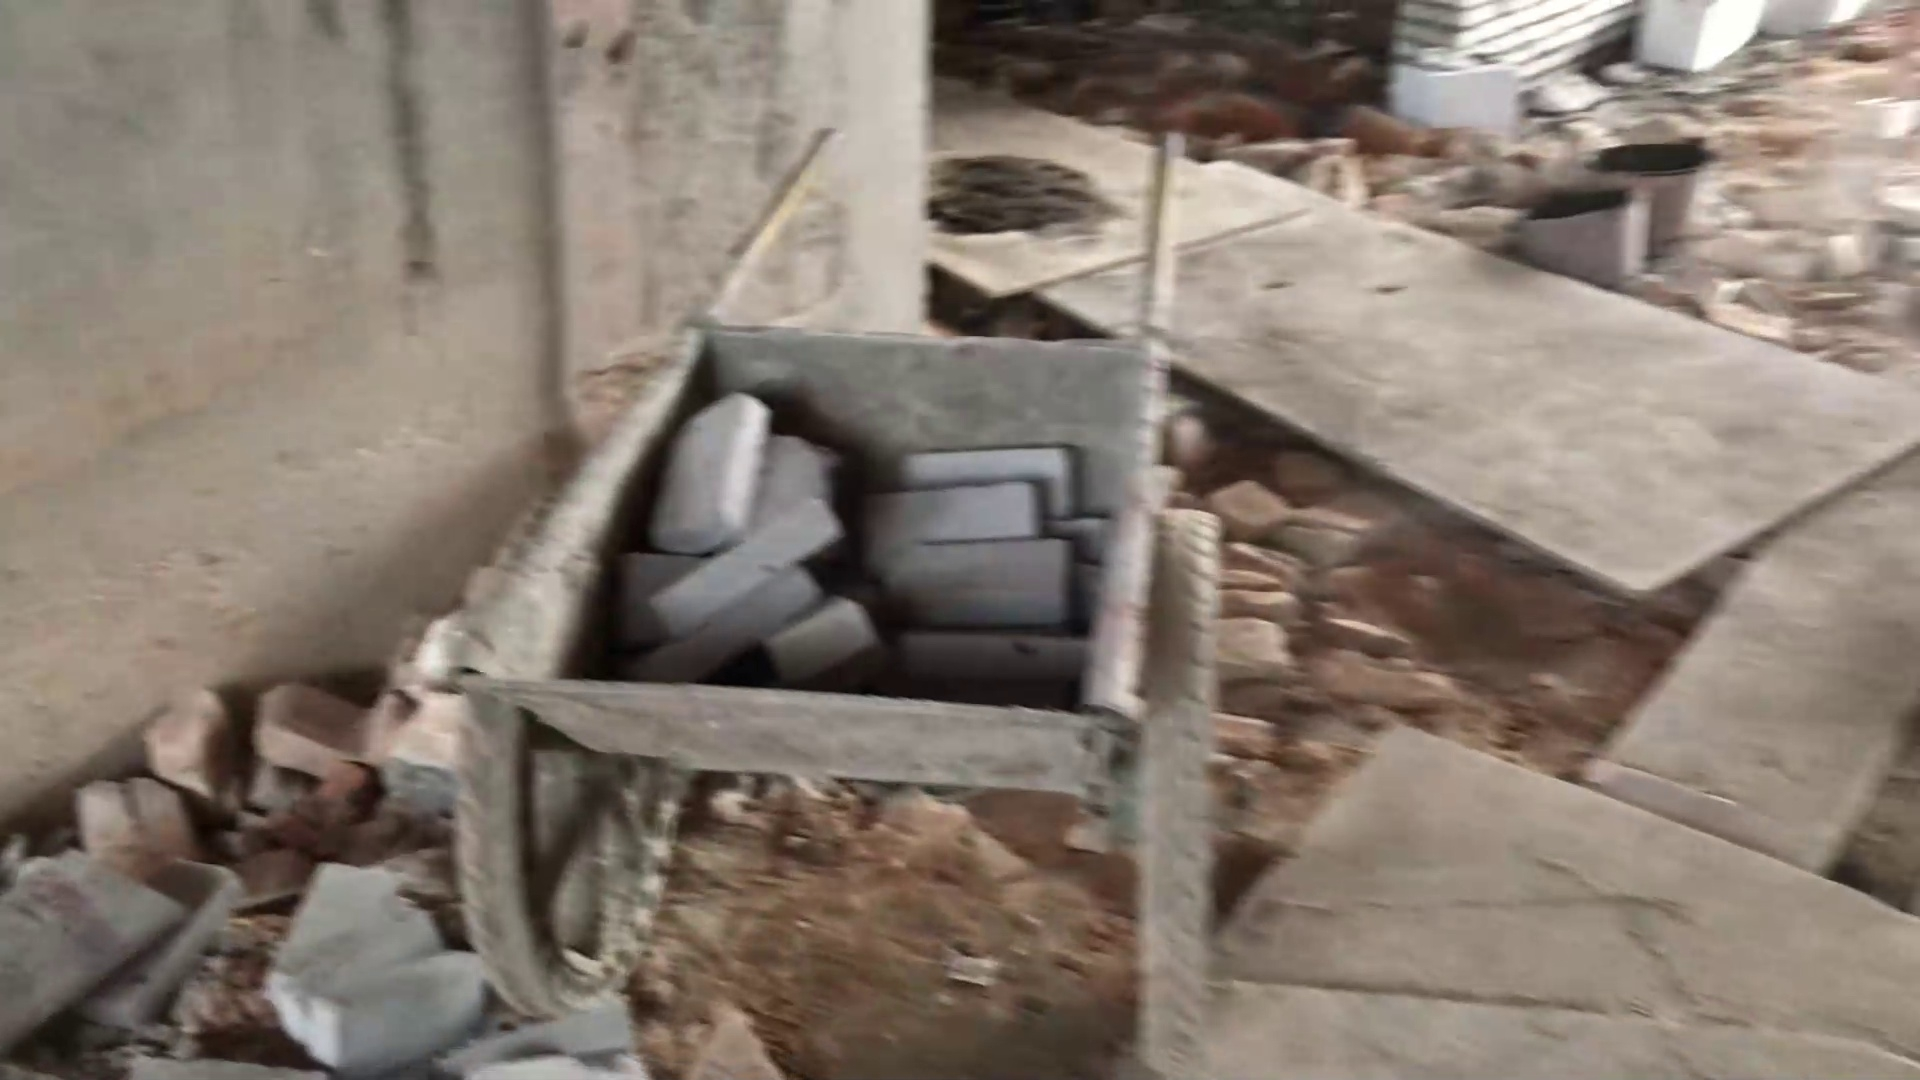handcart: (423, 119, 1230, 1080)
